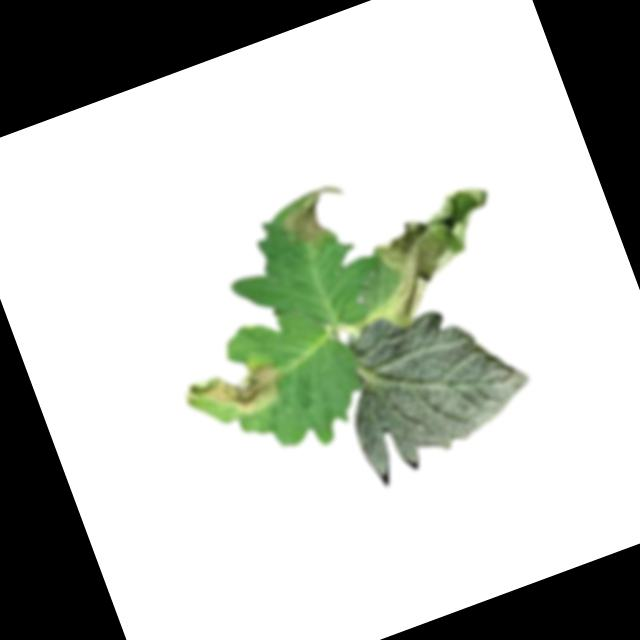Late_blight: (322, 179, 523, 347), (180, 353, 294, 438), (274, 180, 358, 251)
